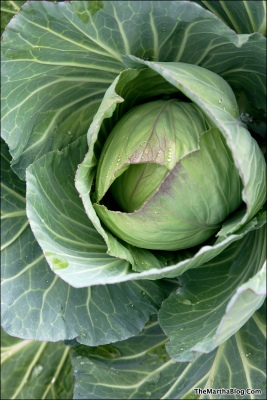cabbage: (91, 95, 239, 254)
